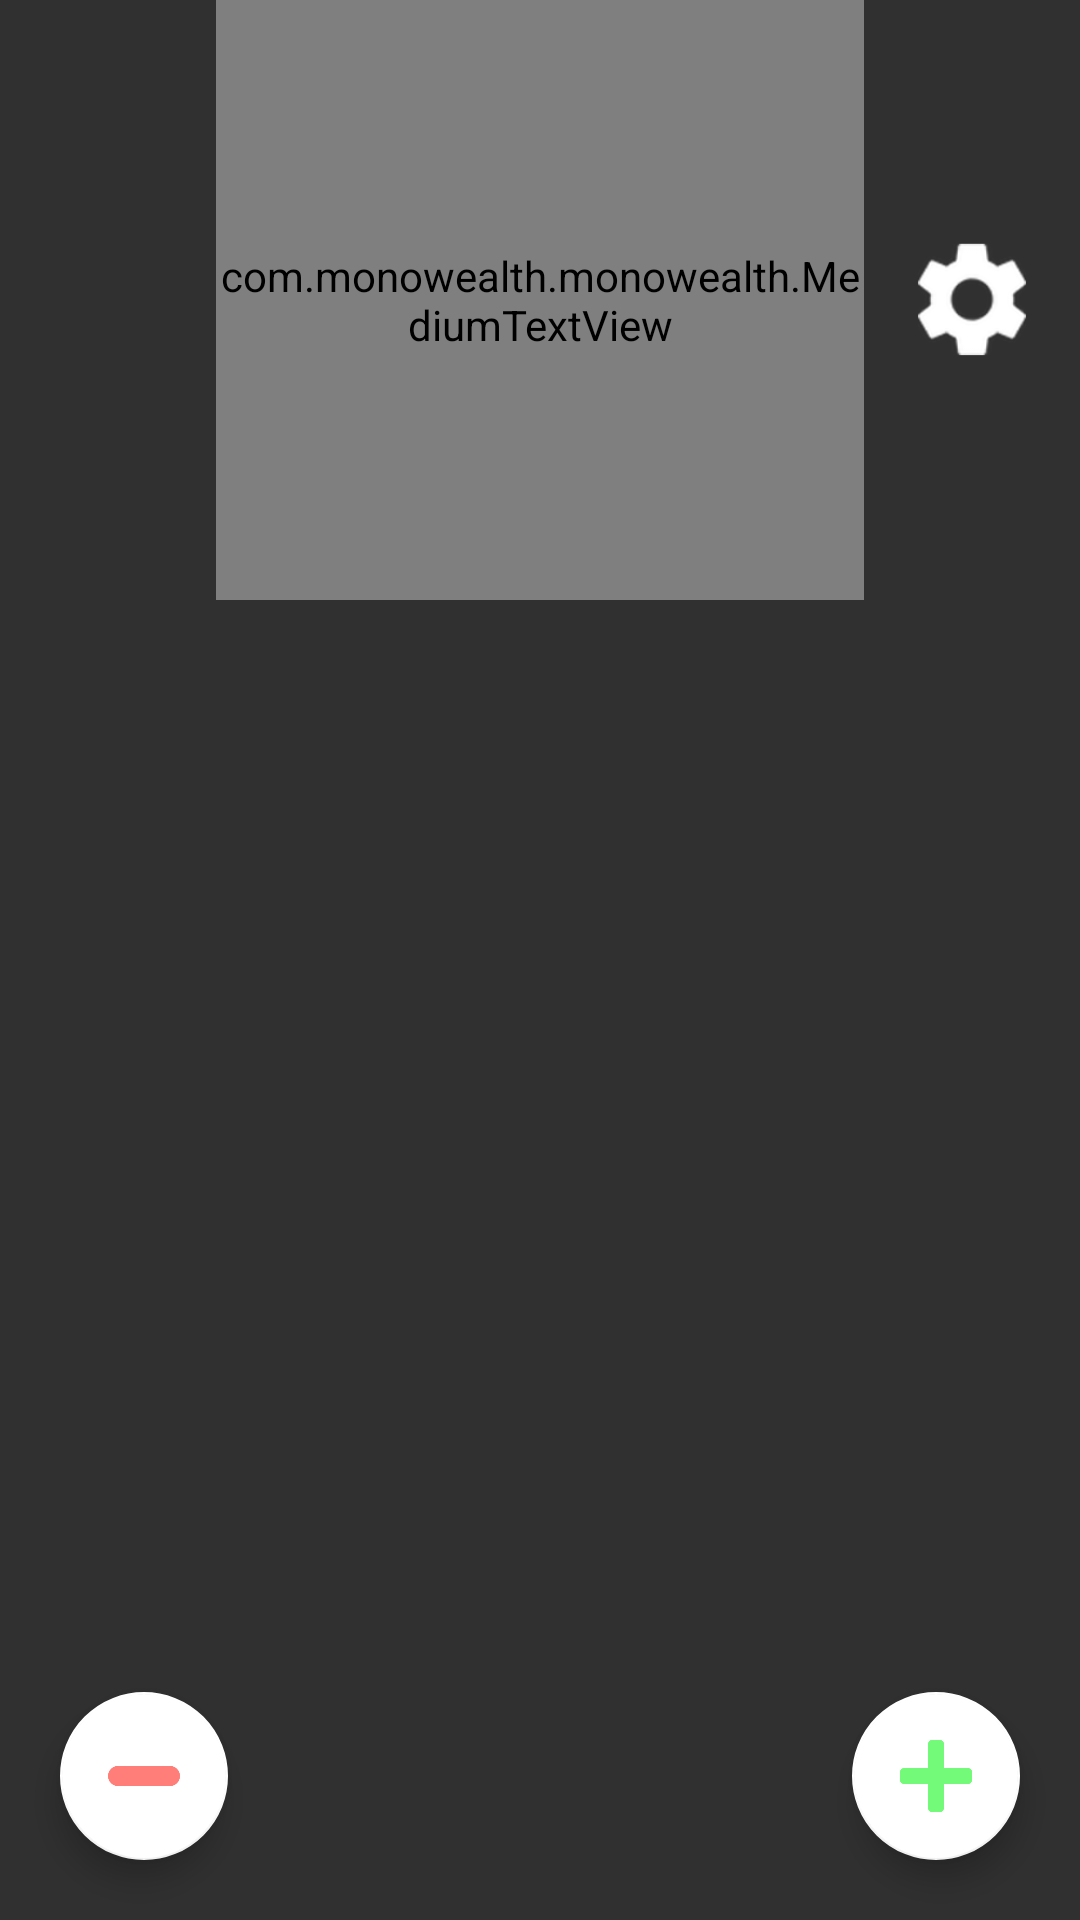

Icon bounding boxes for this 1080w x 1920h phone screenshot, format (x1=x1, y1=y1, x2=x2, y2=y2):
New Expenses: (x1=60, y1=1692, x2=228, y2=1860)
New Income: (x1=852, y1=1692, x2=1020, y2=1860)
Settings: (x1=918, y1=243, x2=1026, y2=355)
